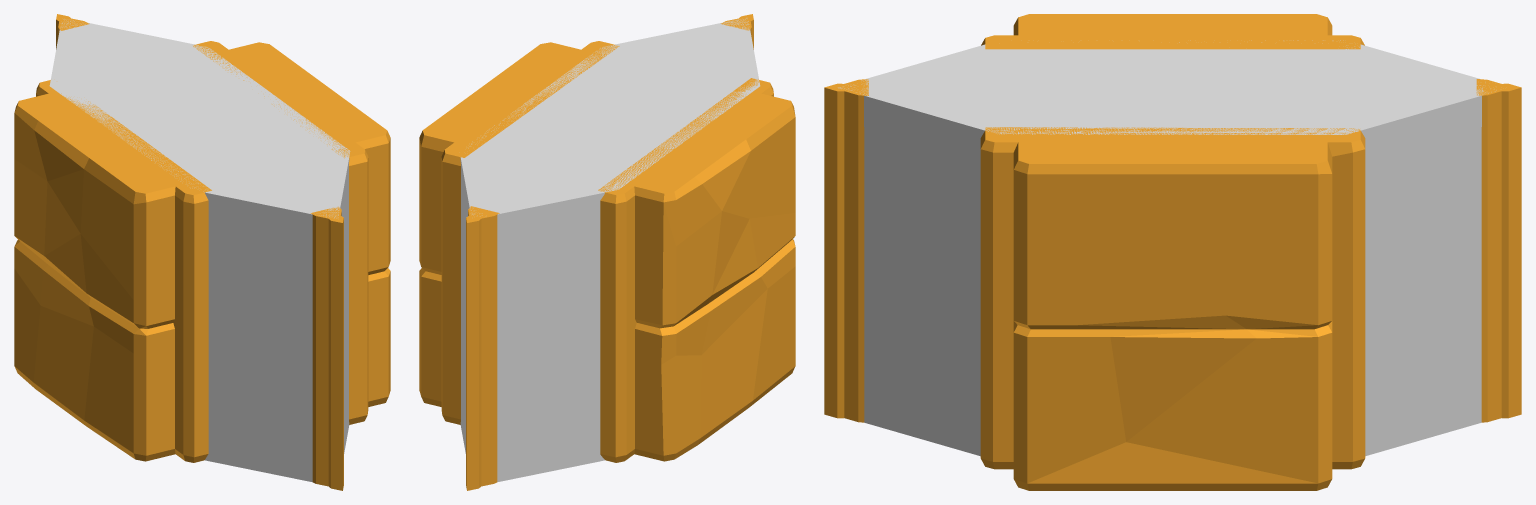
The model's file is SM_Bridge_Stone_Big_Support_A_Fantasy.fbx.
The picture shows the model from 3 angles, left to right: view 1: azimuth 30°, elevation 25°; view 2: azimuth 150°, elevation 25°; view 3: azimuth 270°, elevation 25°; orthographic projection. The views are drawn at different scales.
Parts seen in each view (by area): view 1: SM_Bridge_Stone_Big_Support_A_Fantasy; view 2: SM_Bridge_Stone_Big_Support_A_Fantasy; view 3: SM_Bridge_Stone_Big_Support_A_Fantasy.
Boxes of the visible parts, x1=… form: SM_Bridge_Stone_Big_Support_A_Fantasy: x1=14, y1=14, x2=390, y2=490; SM_Bridge_Stone_Big_Support_A_Fantasy: x1=419, y1=14, x2=795, y2=490; SM_Bridge_Stone_Big_Support_A_Fantasy: x1=824, y1=14, x2=1521, y2=490.
Size of the model in its own units: 6.23 by 6 by 11.6.
